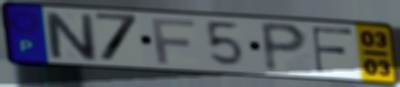5: (202, 21, 247, 70)
7: (92, 11, 142, 66)
F: (149, 17, 198, 66), (310, 26, 355, 75)
N: (41, 10, 101, 63)
P: (258, 20, 310, 75)
